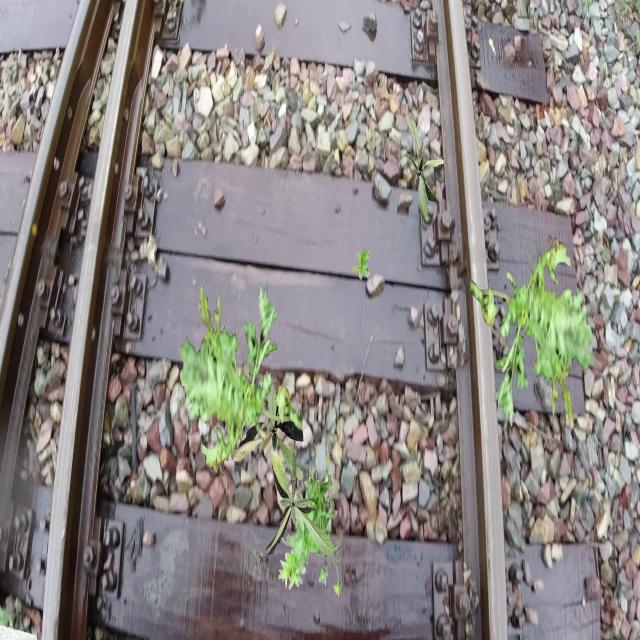Plant: (470, 235, 595, 431), (178, 281, 303, 477), (278, 454, 342, 598), (263, 450, 334, 558), (232, 381, 304, 481), (405, 113, 445, 223), (352, 249, 370, 281)
